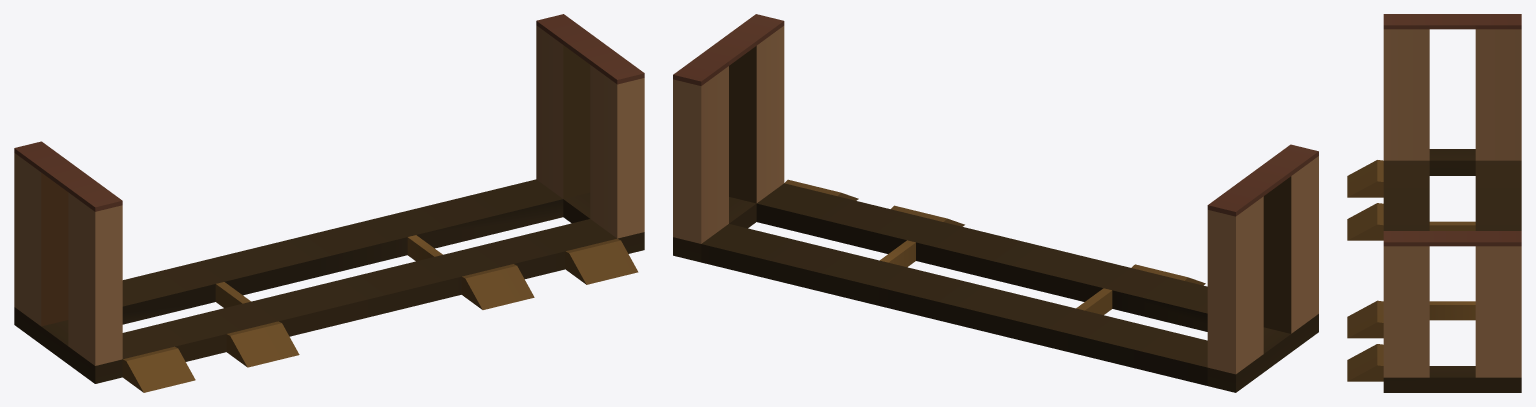
The model's file is Small Barrel Rack Empty.fbx.
The picture shows the model from 3 angles, left to right: view 1: azimuth 30°, elevation 25°; view 2: azimuth 150°, elevation 25°; view 3: azimuth 270°, elevation 25°; orthographic projection. The views are drawn at different scales.
Parts seen in each view (by area): view 1: Small Barrel Rack Empty; view 2: Small Barrel Rack Empty; view 3: Small Barrel Rack Empty.
Boxes of the visible parts, x1,y1,x2,y2 form: Small Barrel Rack Empty: [14, 14, 644, 392]; Small Barrel Rack Empty: [673, 14, 1318, 392]; Small Barrel Rack Empty: [1347, 14, 1521, 392].
Bounding box in the file's own units: 337 × 353 × 1096.
1 material, 1 textured.
